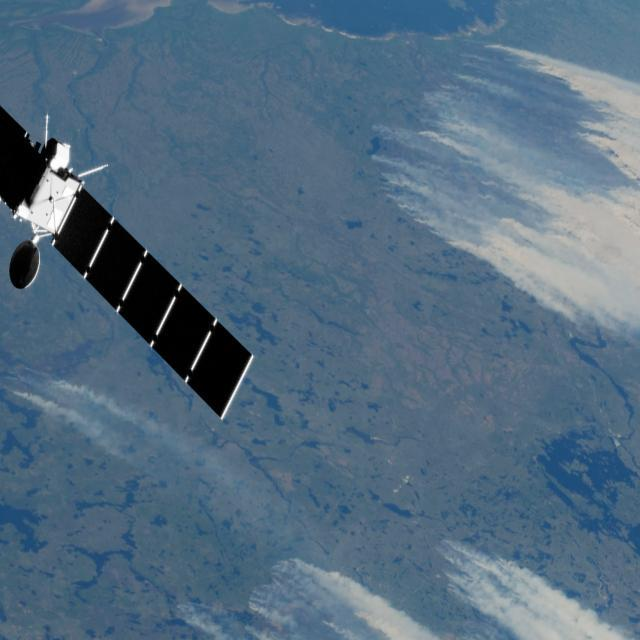satellite: (0, 99, 262, 429)
